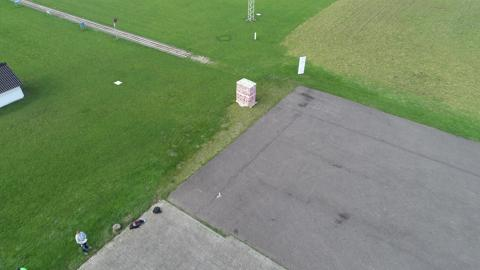RockwoolPallet: (235, 78, 257, 107)
